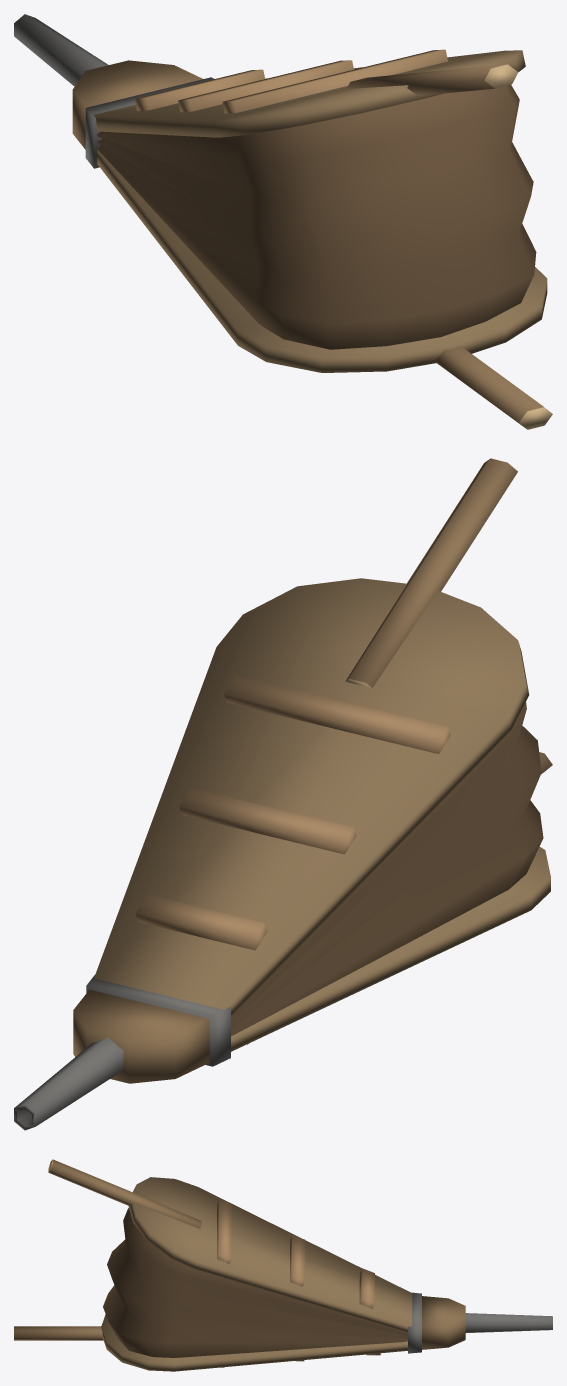
Rendered from rpgpp_ag_bellows_01b.fbx.
3 views of the same model, one above another, from view 1: azimuth 30°, elevation 25°; view 2: azimuth 150°, elevation 25°; view 3: azimuth 270°, elevation 25° (orthographic). The views are drawn at different scales.
Parts seen in each view (by area): view 1: rpgpp_ag_bellows_01b; view 2: rpgpp_ag_bellows_01b; view 3: rpgpp_ag_bellows_01b.
Part boxes in pixels (bbox=[...]): rpgpp_ag_bellows_01b: bbox=[14, 14, 552, 429]; rpgpp_ag_bellows_01b: bbox=[14, 458, 552, 1130]; rpgpp_ag_bellows_01b: bbox=[14, 1159, 552, 1371].
Bounding box in the file's own units: 0.4229 × 0.4724 × 1.29.
